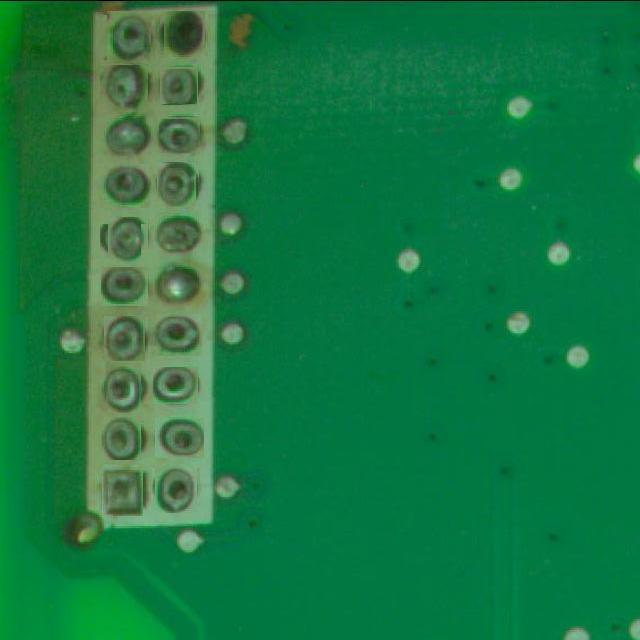lack_of_part: (105, 13, 153, 62), (100, 64, 148, 112), (98, 164, 150, 208), (99, 467, 145, 514), (154, 466, 199, 512), (161, 13, 207, 58), (155, 418, 204, 458), (156, 314, 202, 356), (100, 266, 148, 306), (103, 317, 147, 360), (157, 214, 204, 254), (155, 163, 198, 206), (102, 367, 144, 410), (152, 366, 198, 404), (104, 220, 144, 262), (102, 419, 143, 459), (158, 118, 200, 154), (160, 68, 198, 105)
